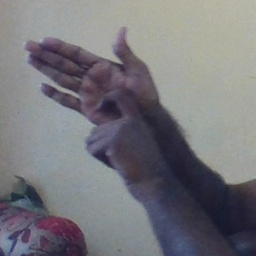R: (22, 21, 158, 164)
